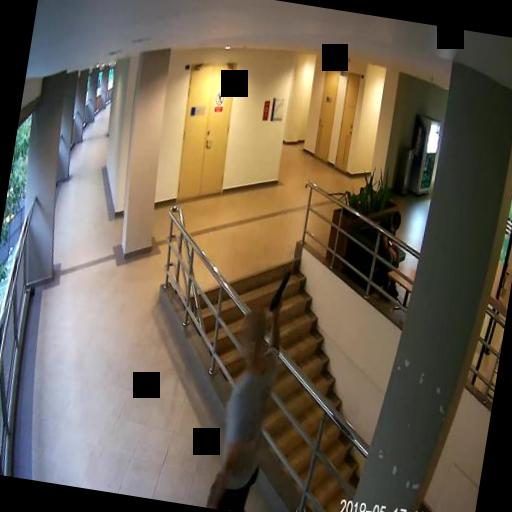Handgun: (270, 267, 290, 308)
